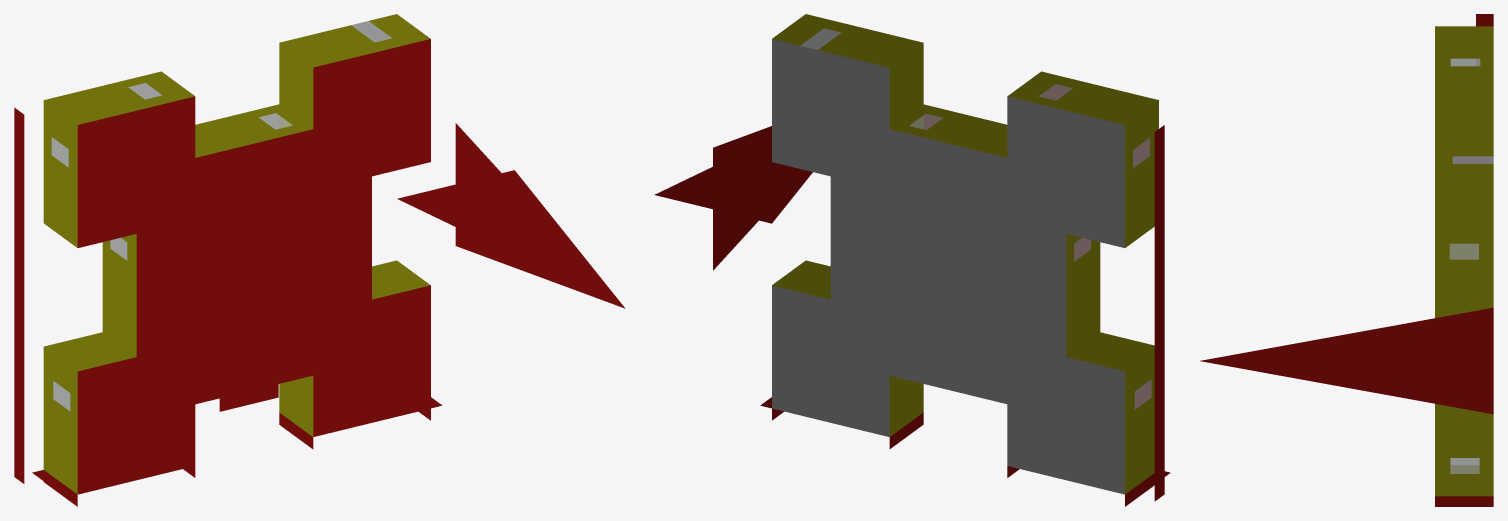
Rendered from idf.obj.
3 views of the same model, side by side, from view 1: azimuth 30°, elevation 25°; view 2: azimuth 150°, elevation 25°; view 3: azimuth 270°, elevation 25° (orthographic). The views are drawn at different scales.
Bounding box in the file's own units: 85 × 62 × 50.
